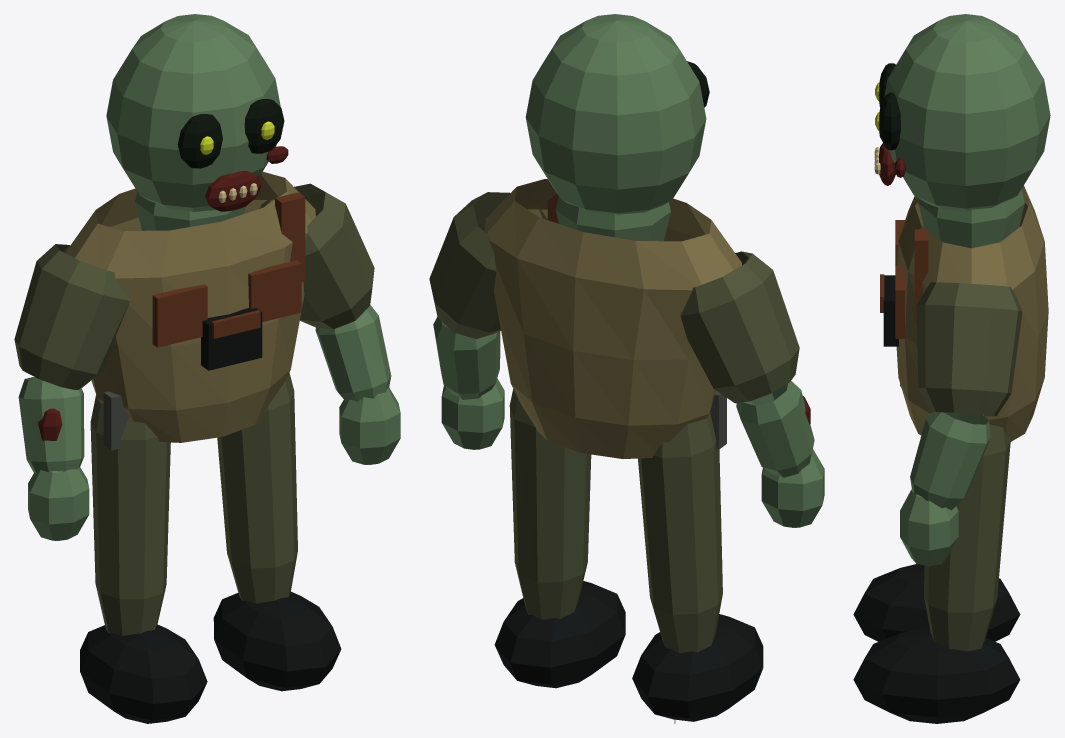
File: Zombie_01_Worker_Dummy.obj
3 views of the same model, side by side, from view 1: azimuth 30°, elevation 25°; view 2: azimuth 150°, elevation 25°; view 3: azimuth 270°, elevation 25° (orthographic). The views are drawn at different scales.
Visible parts, largest first — view 1: upper_body, head, left_leg, right_leg, left_sleeve, left_boot, right_boot, right_sleeve, left_forearm, right_forearm, left_hand, right_hand (+11 smaller); view 2: upper_body, head, left_leg, right_leg, left_sleeve, left_boot, right_boot, right_sleeve, left_forearm, right_forearm, left_hand, right_hand (+2 smaller); view 3: head, upper_body, right_sleeve, right_boot, right_leg, right_forearm, left_boot, neck, right_hand, right_eye_socket, shoulder_strap, tool_pocket (+2 smaller).
Part boxes in pixels (x1=…): upper_body: x1=66, y1=171, x2=315, y2=442; head: x1=106, y1=14, x2=280, y2=211; left_leg: x1=90, y1=394, x2=170, y2=635; right_leg: x1=217, y1=372, x2=297, y2=603; left_sleeve: x1=14, y1=244, x2=129, y2=389; left_boot: x1=80, y1=624, x2=207, y2=723; right_boot: x1=213, y1=591, x2=341, y2=691; right_sleeve: x1=259, y1=183, x2=374, y2=329; left_forearm: x1=18, y1=377, x2=84, y2=473; right_forearm: x1=315, y1=305, x2=391, y2=401; left_hand: x1=28, y1=467, x2=89, y2=540; right_hand: x1=339, y1=387, x2=400, y2=464; upper_body: x1=484, y1=179, x2=741, y2=458; head: x1=525, y1=14, x2=706, y2=214; left_leg: x1=638, y1=412, x2=722, y2=653; right_leg: x1=509, y1=389, x2=591, y2=619; left_sleeve: x1=680, y1=251, x2=799, y2=403; left_boot: x1=632, y1=614, x2=763, y2=721; right_boot: x1=494, y1=581, x2=625, y2=688; right_sleeve: x1=429, y1=192, x2=547, y2=339; left_forearm: x1=736, y1=381, x2=814, y2=477; right_forearm: x1=433, y1=317, x2=500, y2=399; left_hand: x1=761, y1=449, x2=824, y2=527; right_hand: x1=441, y1=378, x2=504, y2=449; head: x1=884, y1=14, x2=1050, y2=211; upper_body: x1=896, y1=185, x2=1048, y2=441; right_sleeve: x1=916, y1=282, x2=1022, y2=416; right_boot: x1=853, y1=627, x2=1020, y2=723; right_leg: x1=924, y1=424, x2=1010, y2=651; right_forearm: x1=910, y1=412, x2=990, y2=510; left_boot: x1=853, y1=564, x2=1020, y2=641; neck: x1=918, y1=189, x2=1024, y2=248; right_hand: x1=900, y1=489, x2=958, y2=566; right_eye_socket: x1=879, y1=92, x2=900, y2=150; shoulder_strap: x1=914, y1=229, x2=928, y2=324; tool_pocket: x1=883, y1=275, x2=898, y2=346.
Size of the model in its own units: 1.1 by 1.9 by 0.5117.
